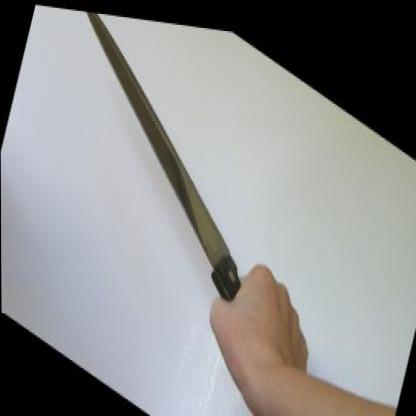knife: (22, 2, 322, 372)
